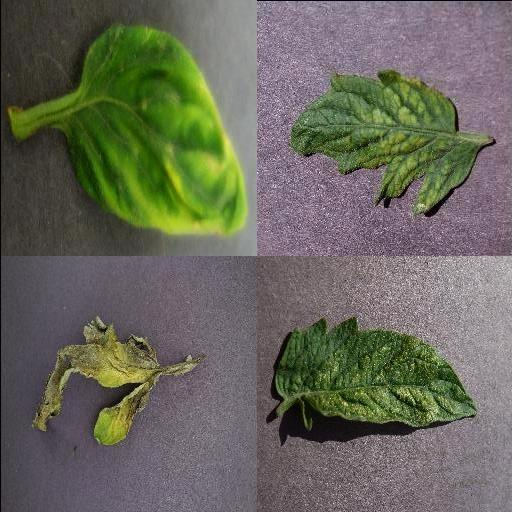Late Blight: (31, 320, 161, 446)
Mosaic Virus: (288, 67, 478, 214)
Spider Mites: (275, 317, 477, 429)
Yellow Leaf Curl Virus: (59, 28, 247, 236)
